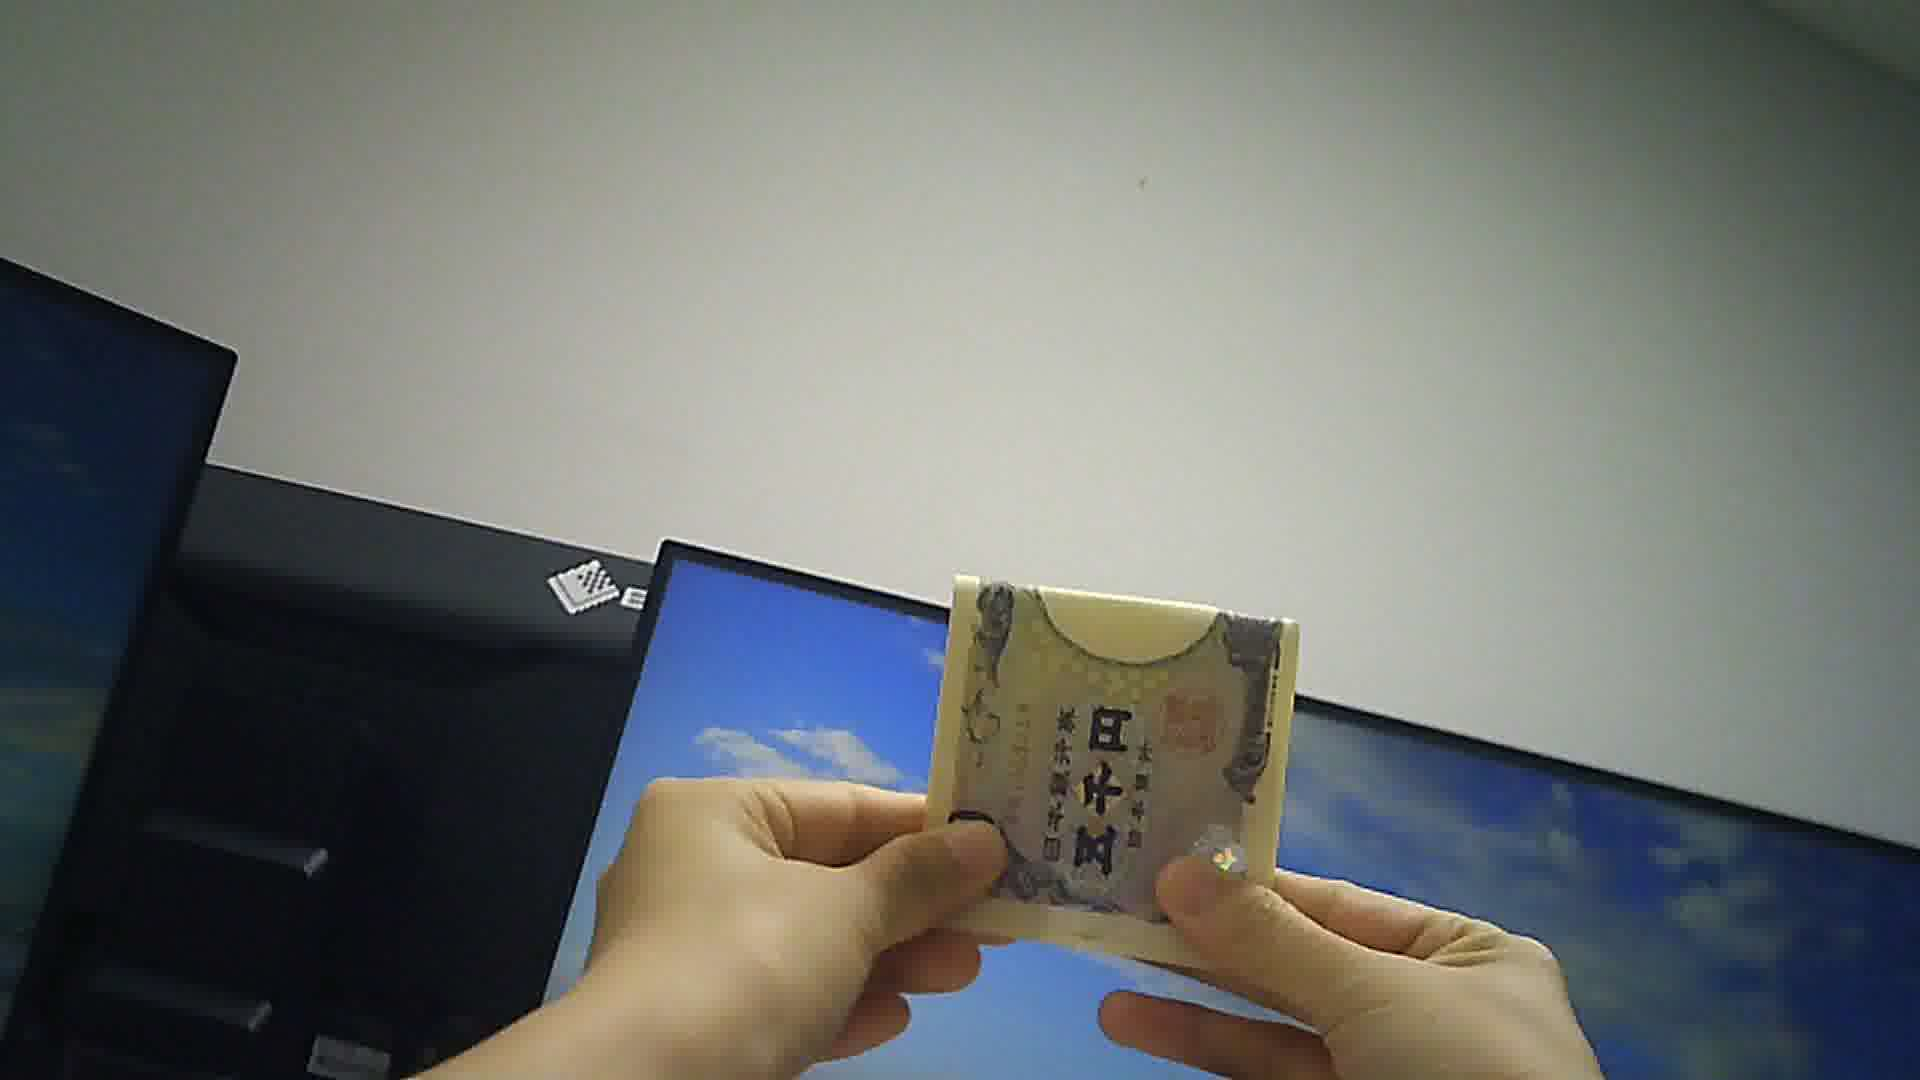5,000 Yen: (920, 550, 1309, 969)
